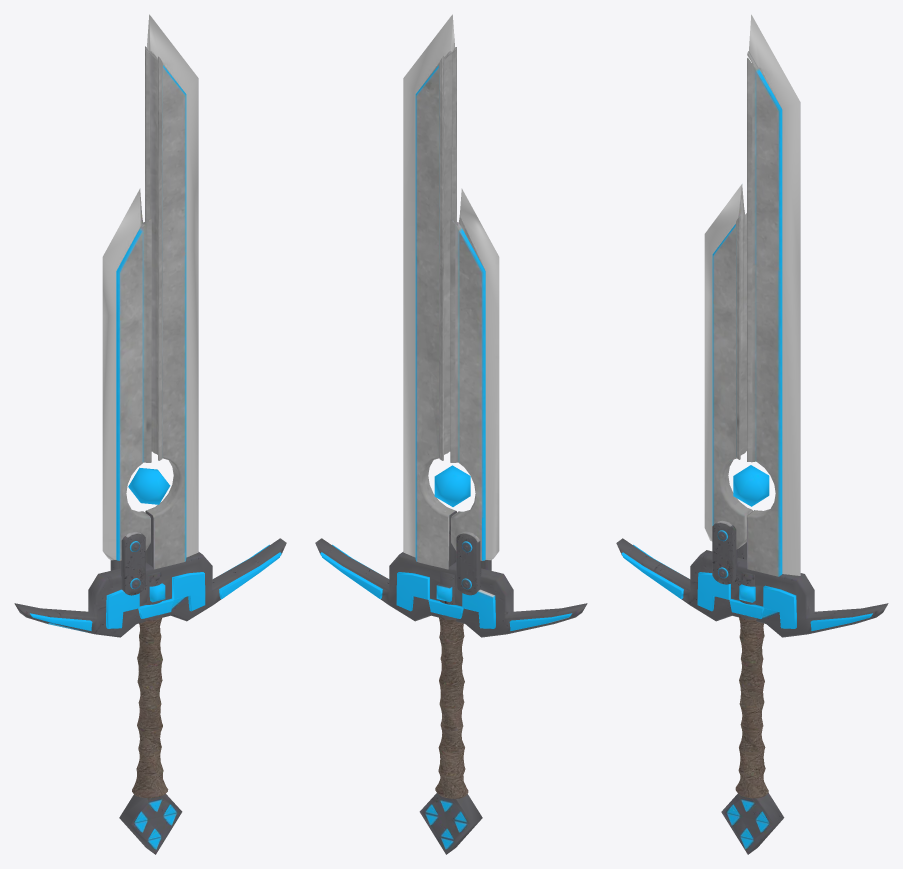
The model's file is sword-transformed.glb.
3 renders of one model, left to right at view 1: azimuth 30°, elevation 25°; view 2: azimuth 150°, elevation 25°; view 3: azimuth 330°, elevation 25°, orthographic.
Parts seen in each view (by area): view 1: defaultMaterial; view 2: defaultMaterial; view 3: defaultMaterial.
Boxes of the visible parts, x1,y1,x2,y2 form: defaultMaterial: [14, 14, 286, 854]; defaultMaterial: [315, 14, 587, 854]; defaultMaterial: [616, 14, 888, 854].
Bounding box in the file's own units: 0.665 × 2 × 0.0916.
1 material, 1 textured.
